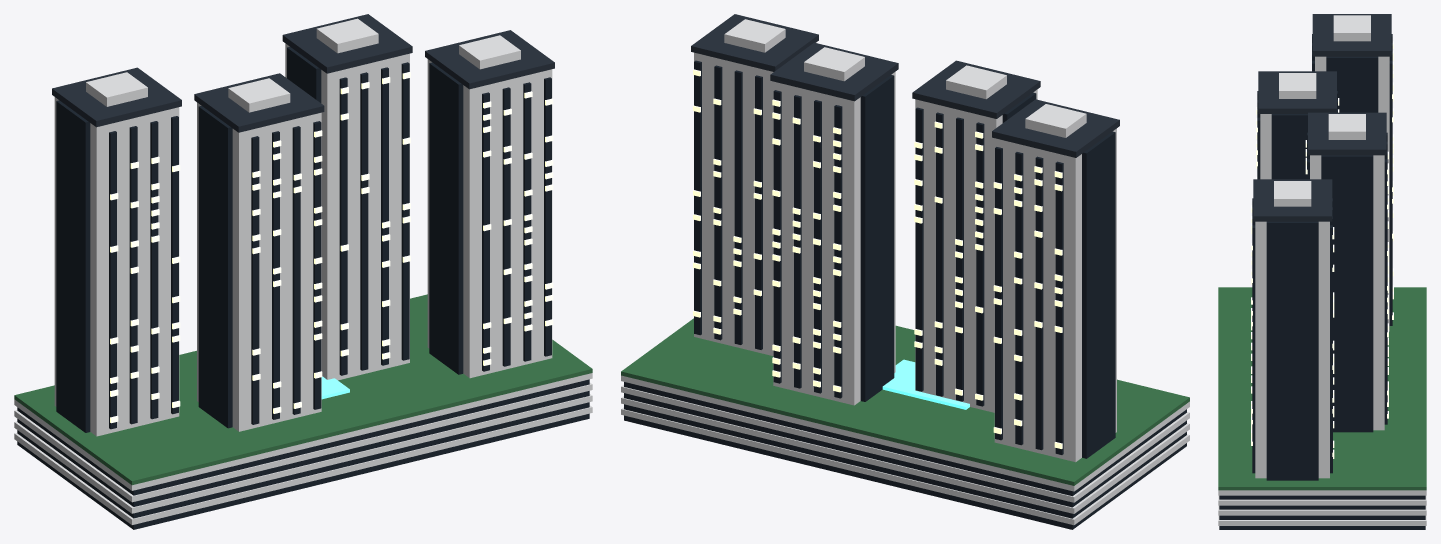
File: building.glb
3 views of the same model, side by side, from view 1: azimuth 30°, elevation 25°; view 2: azimuth 150°, elevation 25°; view 3: azimuth 270°, elevation 25° (orthographic). The views are drawn at different scales.
Size of the model in its own units: 0.5225 by 0.4076 by 0.231.
